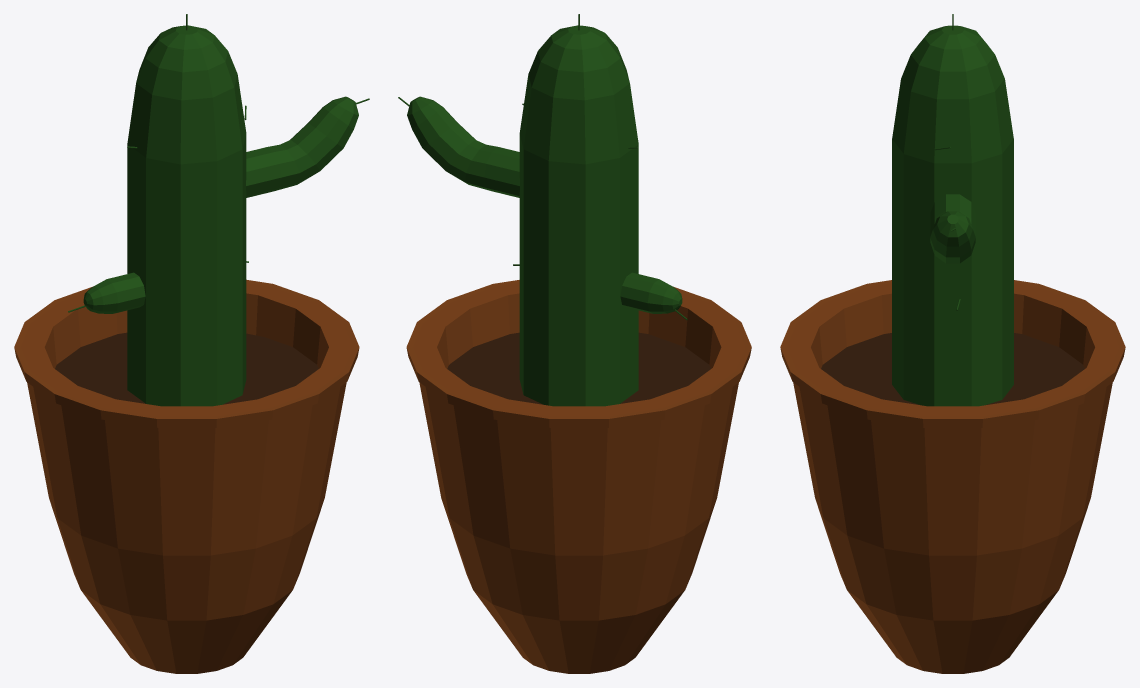
Rendered from Cactus.fbx.
The picture shows the model from 3 angles, left to right: view 1: azimuth 30°, elevation 25°; view 2: azimuth 150°, elevation 25°; view 3: azimuth 270°, elevation 25°; orthographic projection.
Visible parts, largest first — view 1: Pot, Spikes, Ground; view 2: Pot, Spikes, Ground; view 3: Pot, Spikes, Ground.
Part boxes in pixels (box(x1,y1,x2,y2)): Pot: box(14, 279, 359, 673); Spikes: box(68, 14, 369, 406); Ground: box(55, 332, 318, 404); Pot: box(406, 280, 751, 673); Spikes: box(398, 14, 687, 406); Ground: box(447, 332, 710, 404); Pot: box(780, 280, 1125, 673); Spikes: box(892, 14, 1013, 406); Ground: box(821, 333, 1084, 405).
Bounding box in the file's own units: 228 × 421 × 207.
